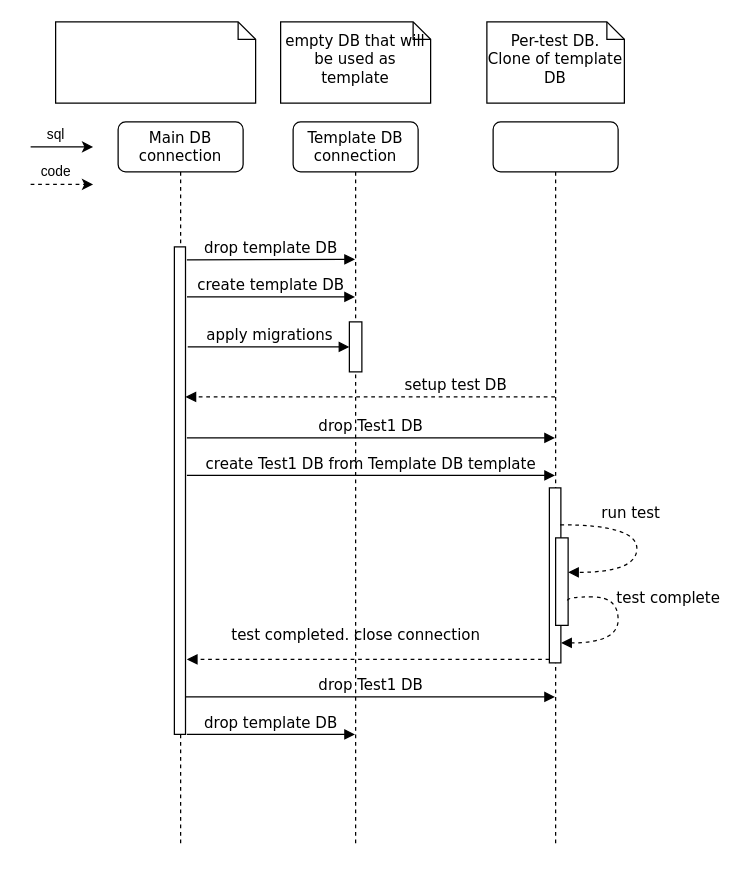
Some shapes in this 741 by 869 pixel diagram are drawn without their labels. Here are the shapes that lost their labels. From the top down, the centre of each, then its label:
At point 155,62: "connect to some db to have acontext of query execution. it can be `postgres` db".
At point 555,484: "Test1 connection".
